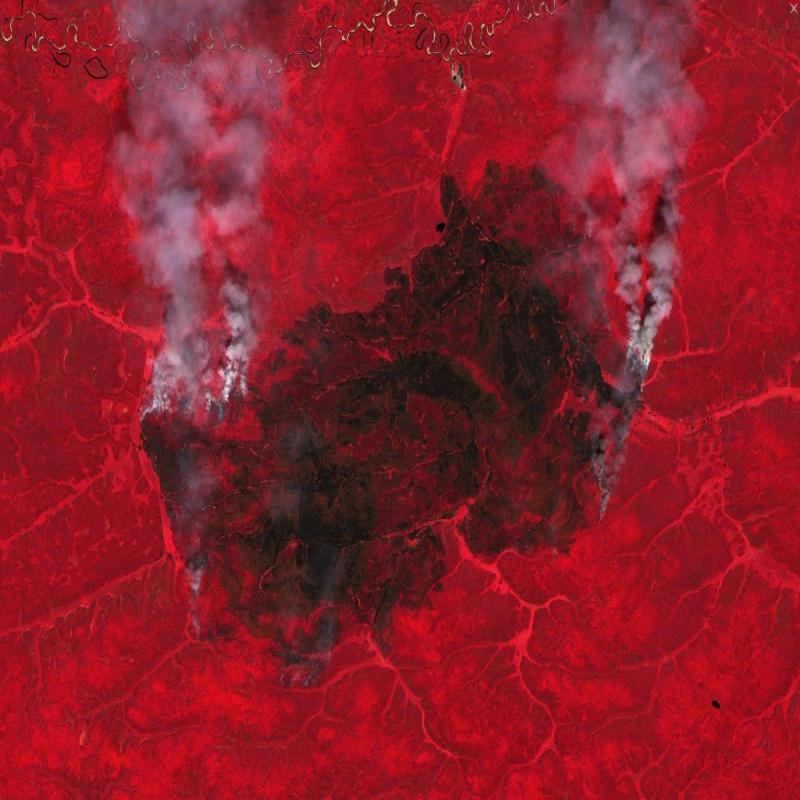fire: (568, 193, 652, 532), (135, 360, 250, 432), (270, 628, 349, 694), (182, 553, 221, 648)
